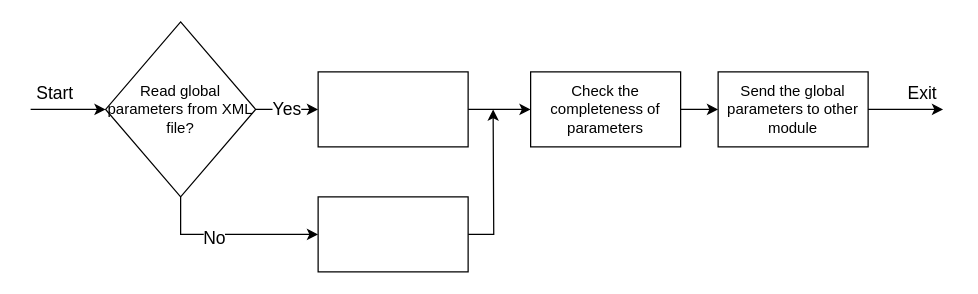
Some shapes in this 978 by 294 pixel diagram are drawn without their labels. Here are the shapes that lost their labels. From the top down, the centre of each, then its label:
At pixel 392 109: "Read parameters from XML file".
At pixel 392 234: "Read parameters from control pannel".
